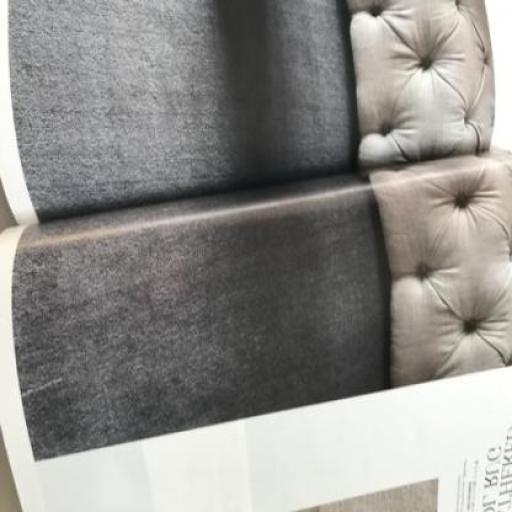paper: (1, 0, 512, 511), (1, 145, 512, 511), (1, 0, 511, 224)
